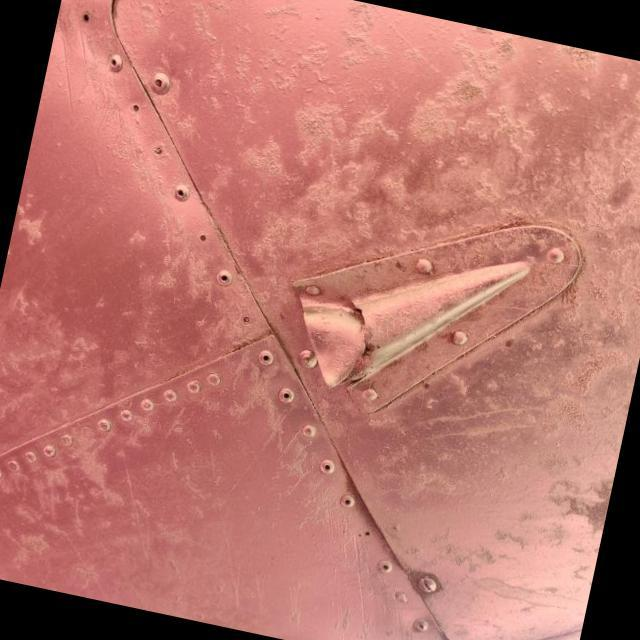Rupture: (258, 264, 406, 410)
